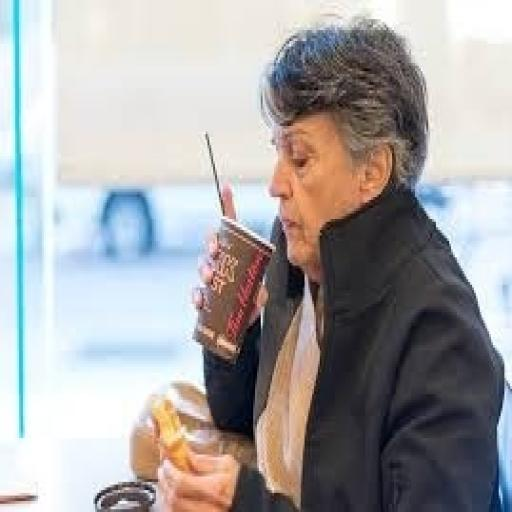drinking: (64, 74, 512, 441)
